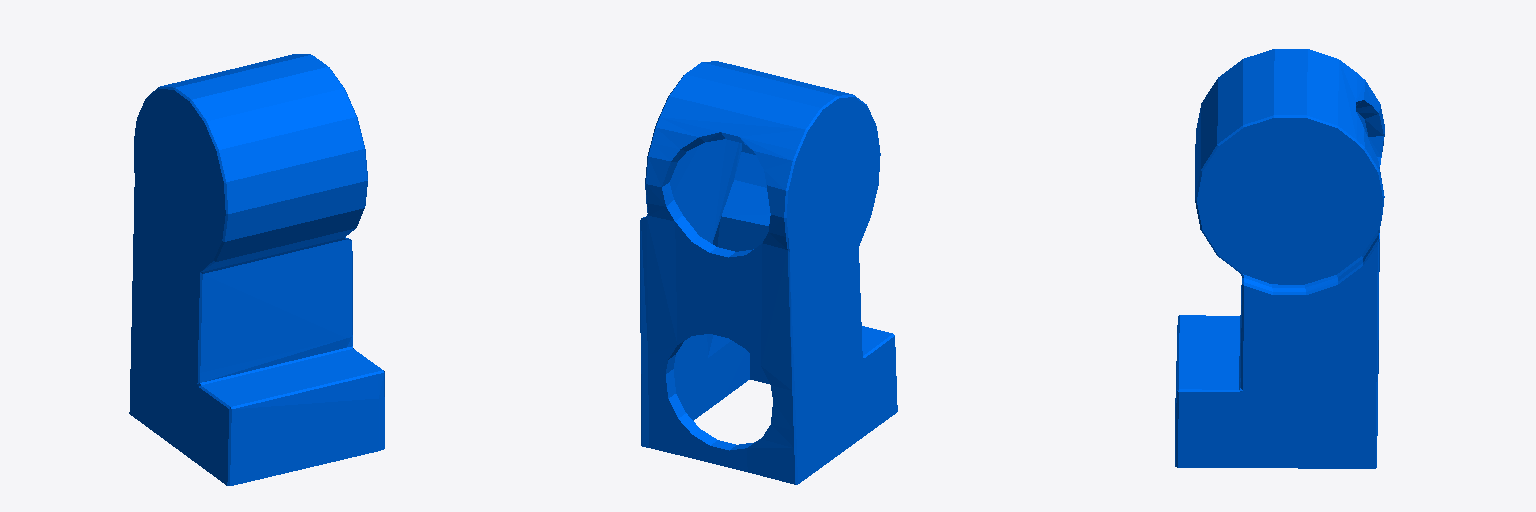
3 renders of one model, left to right at view 1: azimuth 30°, elevation 25°; view 2: azimuth 150°, elevation 25°; view 3: azimuth 270°, elevation 25°, orthographic.
Visible parts, largest first — view 1: jambe-g; view 2: jambe-g; view 3: jambe-g.
Boxes of the visible parts, x1=… form: jambe-g: x1=129, y1=54, x2=384, y2=485; jambe-g: x1=640, y1=61, x2=897, y2=484; jambe-g: x1=1175, y1=49, x2=1384, y2=468.
Size of the model in its own units: 0.541 by 1.14 by 0.6241.
1 materials, 1 textured.